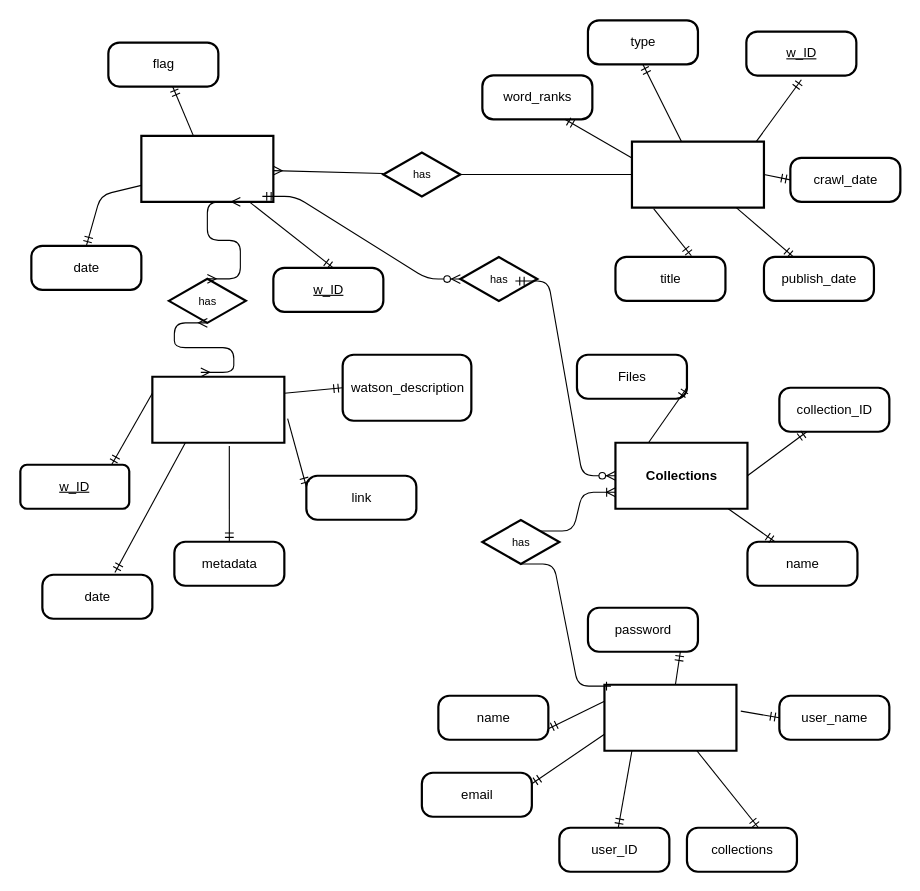
The diagram is 920 pixels wide and 891 high, and some of its shapes have lost their labels. The shapes that lost their labels are listed below. From the top down, each one's centre as x and y in pixels, then its label:
point (207, 168): Warc File
point (697, 174): Document
point (218, 409): Images
point (670, 717): User
